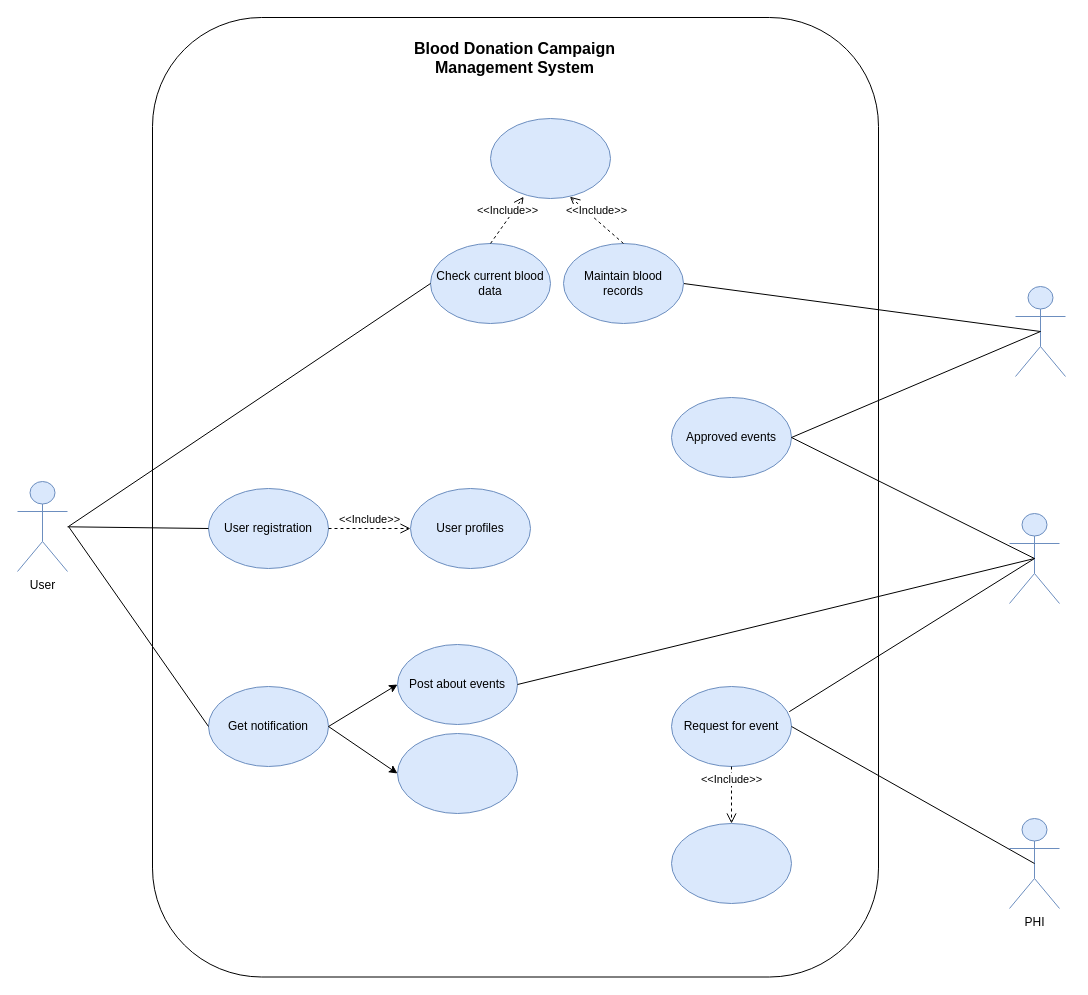
Some shapes in this 1088 by 995 pixel diagram are drawn without their labels. Each missing label, with the centre of its shape:
"Blood Bank" goes at (x=1040, y=331).
"blood data" goes at (x=550, y=158).
"Emergency requirement post" goes at (x=457, y=773).
"Event verification" goes at (x=731, y=863).
"Organization" goes at (x=1034, y=558).
